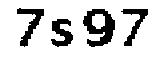7: (120, 3, 154, 50), (13, 4, 47, 47)
9: (80, 5, 118, 49)
s: (47, 18, 78, 50)
